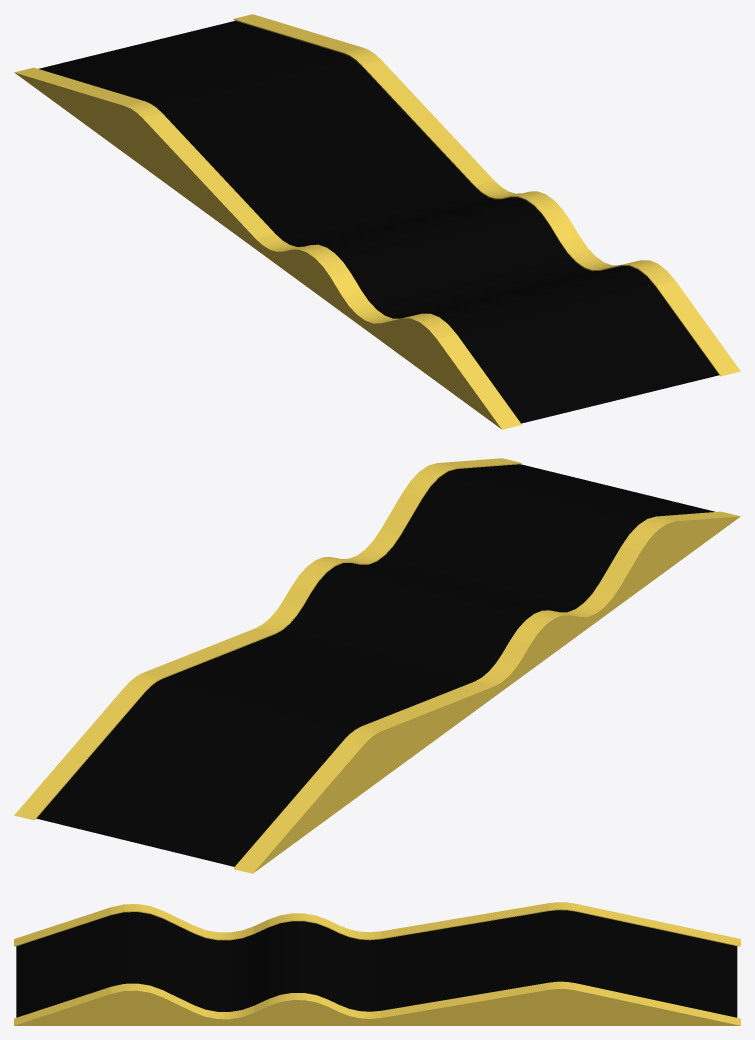
File: Rumble.dae
3 renders of one model, top to bottom at view 1: azimuth 30°, elevation 25°; view 2: azimuth 150°, elevation 25°; view 3: azimuth 270°, elevation 25°, orthographic. The views are drawn at different scales.
Visible parts, largest first — view 1: Pavement, Curb; view 2: Pavement, Curb; view 3: Pavement, Curb.
Boxes of the visible parts, x1=… form: Pavement: x1=38, y1=21, x2=718, y2=423; Curb: x1=14, y1=14, x2=740, y2=429; Pavement: x1=36, y1=464, x2=715, y2=866; Curb: x1=14, y1=458, x2=740, y2=873; Pavement: x1=16, y1=910, x2=737, y2=1017; Curb: x1=14, y1=902, x2=740, y2=1025.
Size of the model in its own units: 2.4 by 8.5 by 0.4763.
